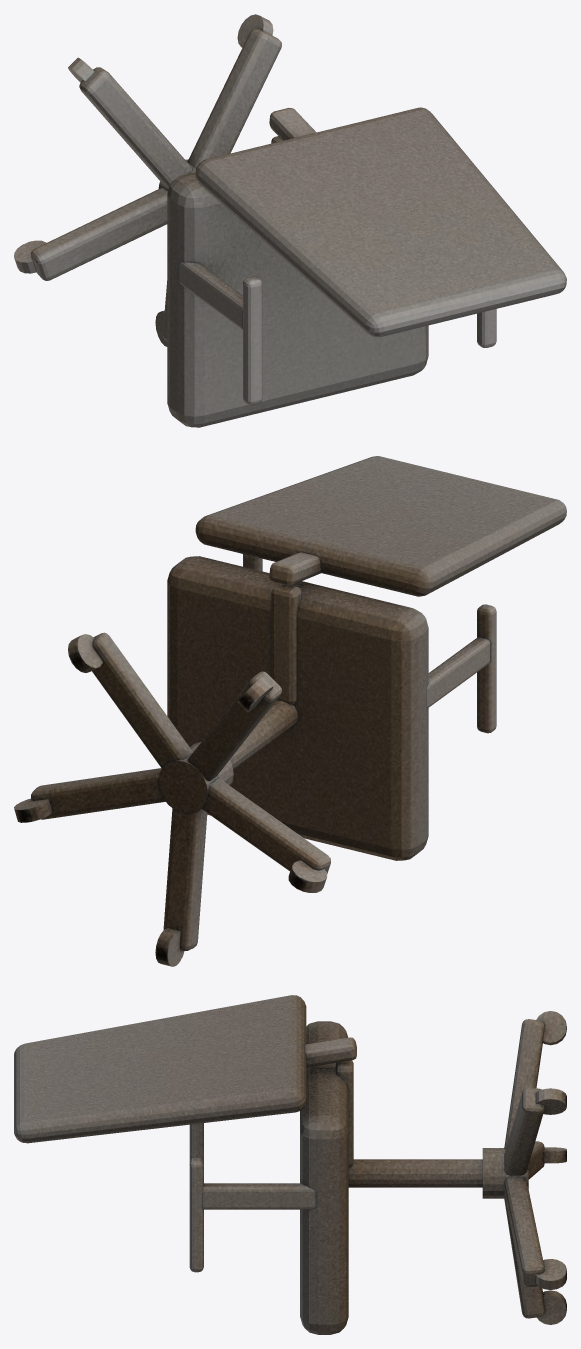
3 renders of one model, top to bottom at view 1: azimuth 30°, elevation 25°; view 2: azimuth 150°, elevation 25°; view 3: azimuth 270°, elevation 25°, orthographic. The views are drawn at different scales.
Parts seen in each view (by area): view 1: E2_final_3.001; view 2: E2_final_3.001; view 3: E2_final_3.001.
Part boxes in pixels (left/top/right/bottom): E2_final_3.001: left=14, top=14, right=566, bottom=427; E2_final_3.001: left=14, top=456, right=566, bottom=966; E2_final_3.001: left=14, top=995, right=566, bottom=1334.
Bounding box in the file's own units: 0.6199 × 0.6085 × 1.08.
1 material, 1 textured.
